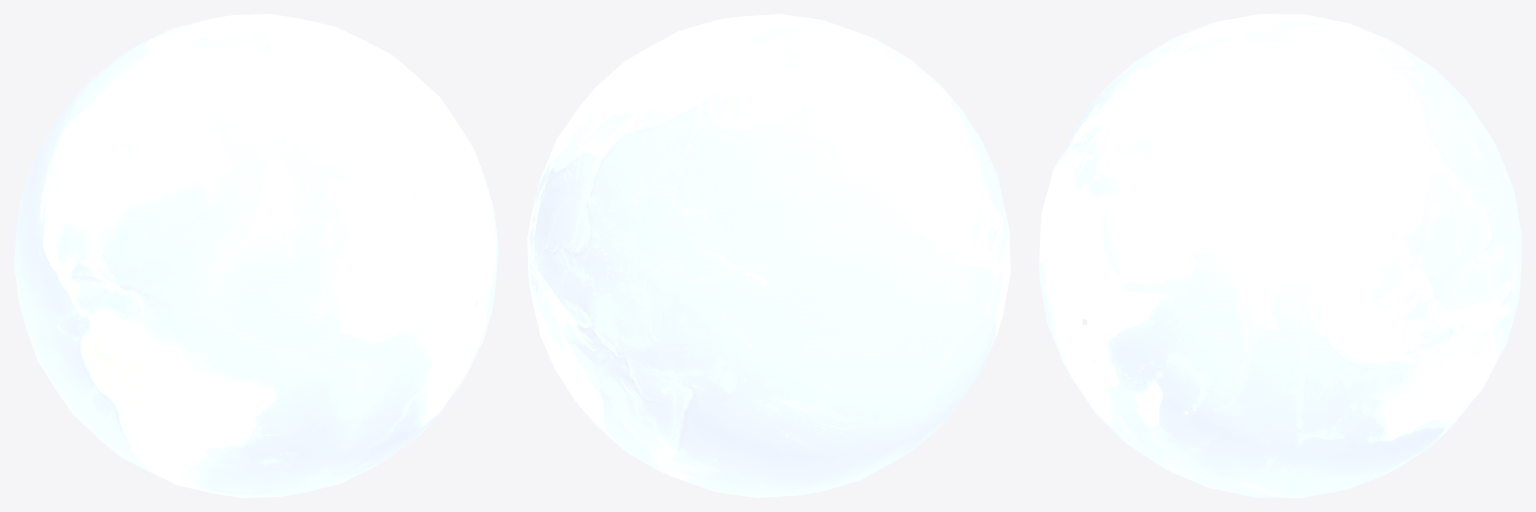
File: earth.glb
3 views of the same model, side by side, from view 1: azimuth 30°, elevation 25°; view 2: azimuth 150°, elevation 25°; view 3: azimuth 270°, elevation 25° (orthographic).
Parts seen in each view (by area): view 1: Atmosphere_Cube.001; view 2: Atmosphere_Cube.001; view 3: Atmosphere_Cube.001.
Boxes of the visible parts, left/top/right/bottom form: Atmosphere_Cube.001: left=14, top=14, right=498, bottom=497; Atmosphere_Cube.001: left=527, top=14, right=1010, bottom=497; Atmosphere_Cube.001: left=1039, top=14, right=1521, bottom=497.
Size of the model in its own units: 6.39 by 6.41 by 6.39.
Materials: 1 (1 with a texture image).
